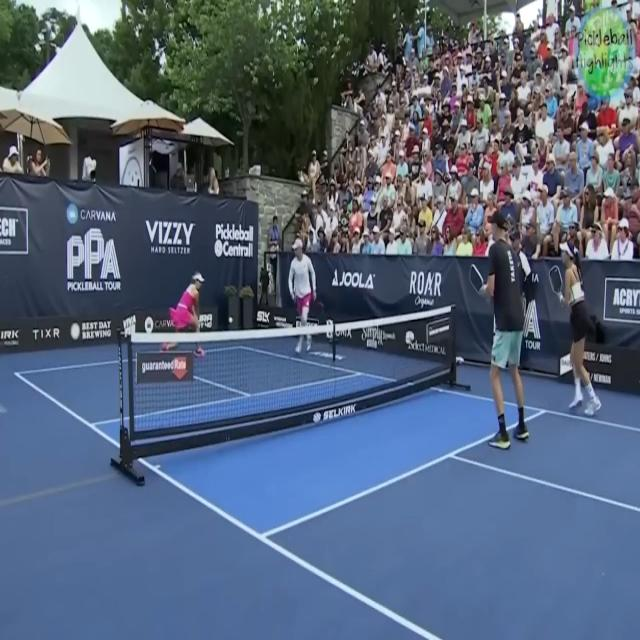Pickleball: (228, 314, 234, 322)
